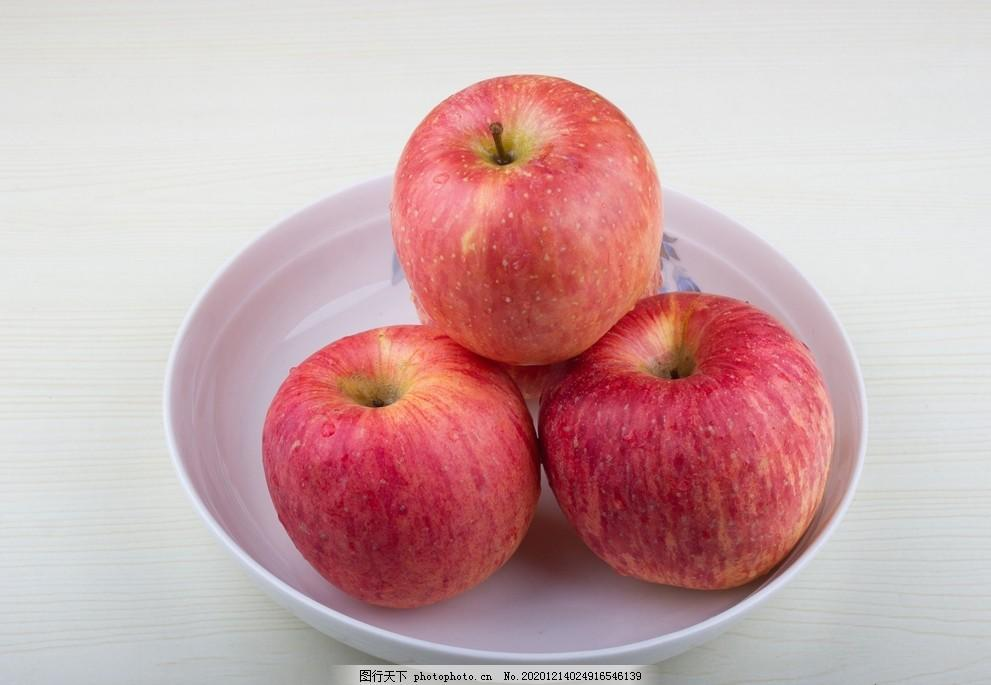apple: (552, 287, 837, 591), (262, 327, 547, 622), (412, 68, 695, 359)
